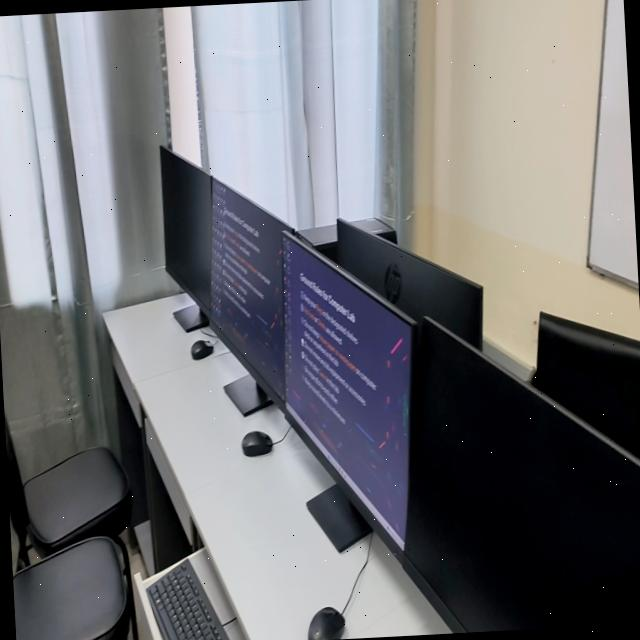Chair: (5, 415, 131, 570), (530, 312, 640, 460), (13, 536, 135, 640)
Cpu: (295, 214, 399, 263)
Keyboard: (148, 560, 230, 640)
Monitor: (400, 320, 640, 633), (281, 230, 418, 552), (336, 219, 483, 351), (211, 180, 284, 415), (160, 147, 212, 332)
Mouse: (308, 607, 345, 640), (242, 431, 273, 457), (191, 339, 214, 360)
